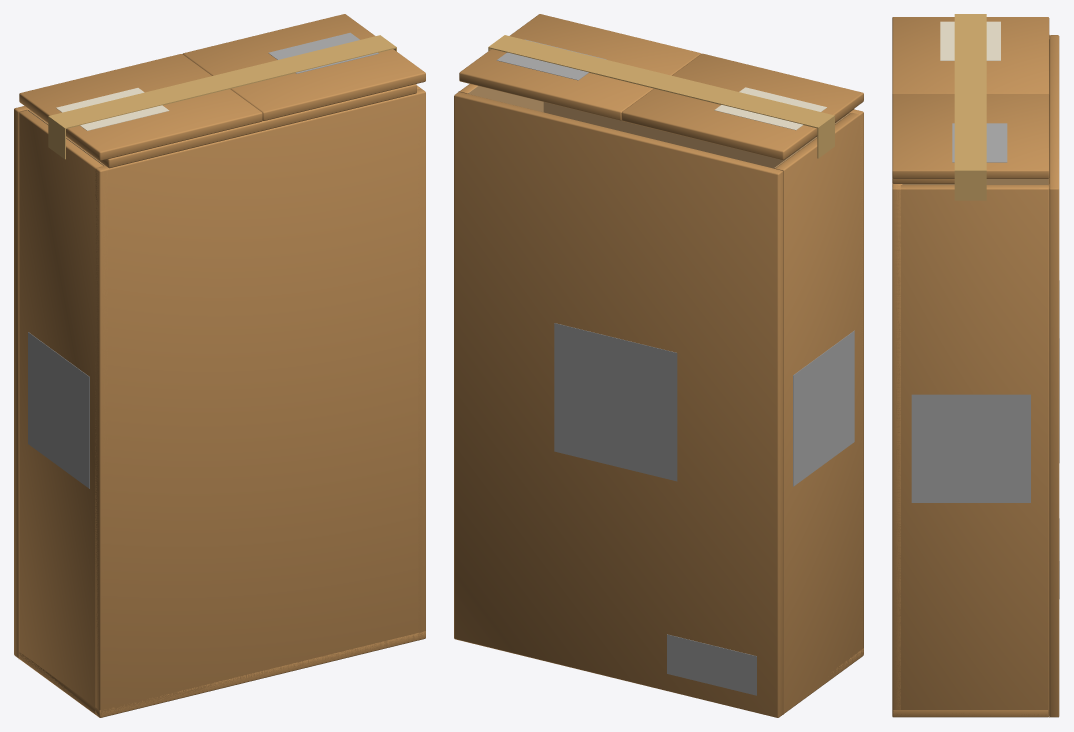
The picture shows the model from 3 angles, left to right: view 1: azimuth 30°, elevation 25°; view 2: azimuth 150°, elevation 25°; view 3: azimuth 270°, elevation 25°; orthographic projection. The views are drawn at different scales.
Parts seen in each view (by area): view 1: box_3x5, FlapR, FlapL, Tape, FlapB, Front; view 2: Front, box_3x5, FlapR, FlapL, Tape; view 3: box_3x5, FlapL, FlapR, Front, Tape, FlapB.
Boxes of the visible parts, x1,y1,x2,y2 form: box_3x5: [18, 85, 425, 717]; FlapR: [19, 54, 262, 160]; FlapL: [183, 14, 425, 120]; Tape: [48, 35, 396, 159]; FlapB: [71, 84, 416, 168]; Front: [14, 106, 103, 658]; Front: [454, 92, 782, 717]; box_3x5: [458, 84, 863, 714]; FlapR: [621, 53, 863, 159]; FlapL: [459, 14, 701, 120]; Tape: [488, 35, 834, 158]; box_3x5: [892, 35, 1049, 717]; FlapL: [892, 94, 1049, 178]; FlapR: [892, 17, 1049, 94]; Front: [1049, 35, 1059, 717]; Tape: [954, 14, 986, 200]; FlapB: [892, 178, 954, 183].
Size of the model in its own units: 0.807 by 1.32 by 0.3649.
